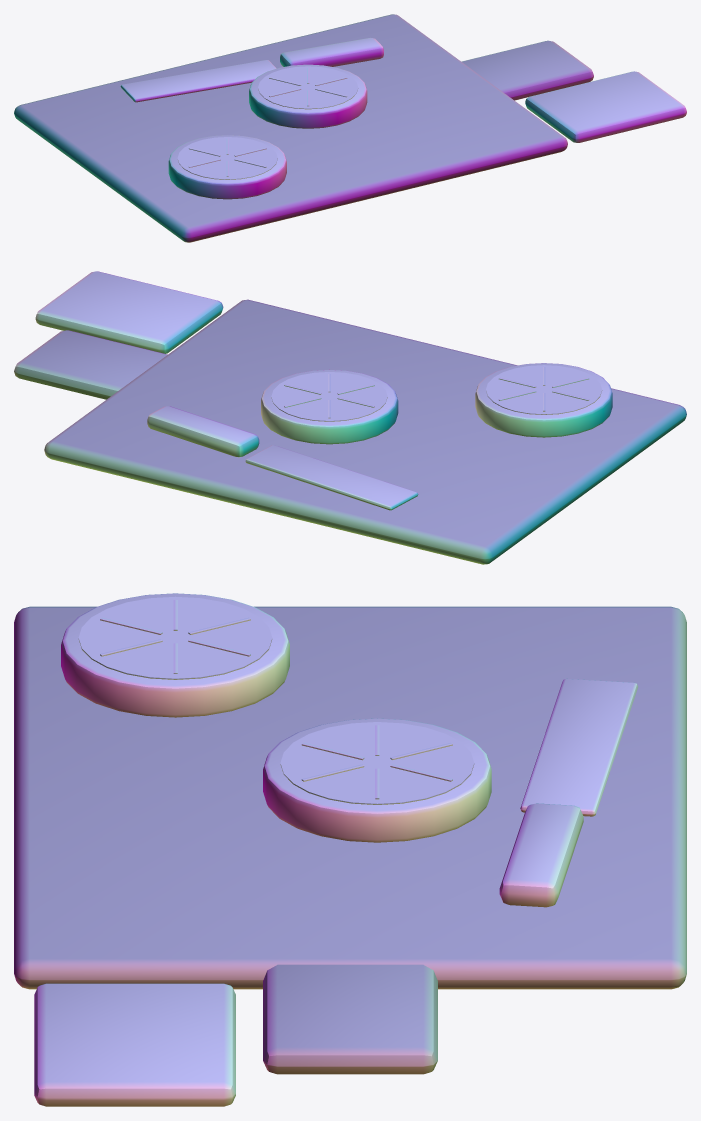
The model's file is env_dress_kitchen_prep.glb.
The picture shows the model from 3 angles, top to bottom: view 1: azimuth 30°, elevation 25°; view 2: azimuth 150°, elevation 25°; view 3: azimuth 270°, elevation 25°; orthographic projection. The views are drawn at different scales.
Visible parts, largest first — view 1: env_dress_kitchen_prep_mesh; view 2: env_dress_kitchen_prep_mesh; view 3: env_dress_kitchen_prep_mesh.
Boxes of the visible parts, box(x1,y1,x2,y2) form: env_dress_kitchen_prep_mesh: box(14, 14, 686, 242); env_dress_kitchen_prep_mesh: box(14, 271, 686, 564); env_dress_kitchen_prep_mesh: box(14, 593, 686, 1106).
Bounding box in the file's own units: 0.845 × 0.0605 × 0.5.
